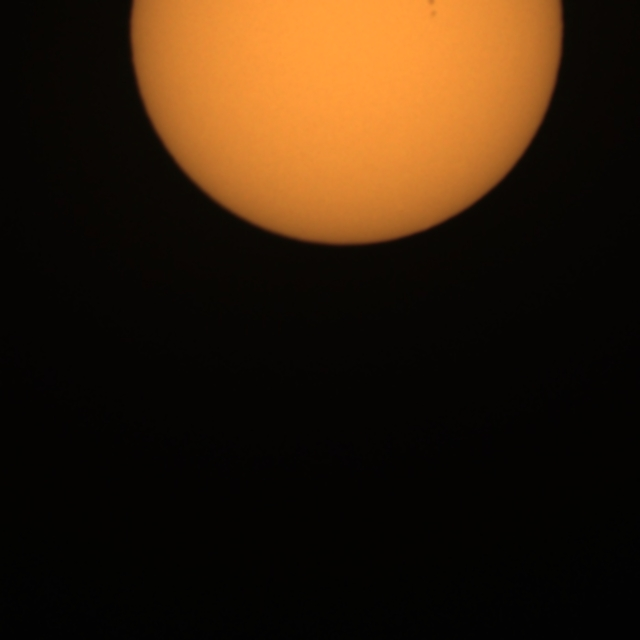sunspot: (423, 0, 442, 22)
